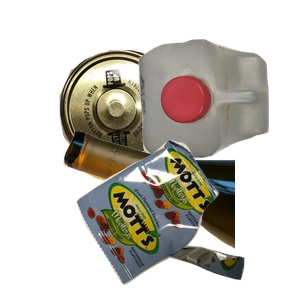glass: (60, 128, 300, 300)
metal: (57, 47, 227, 211)
plastic: (136, 37, 300, 188)
trash: (74, 137, 300, 300)
